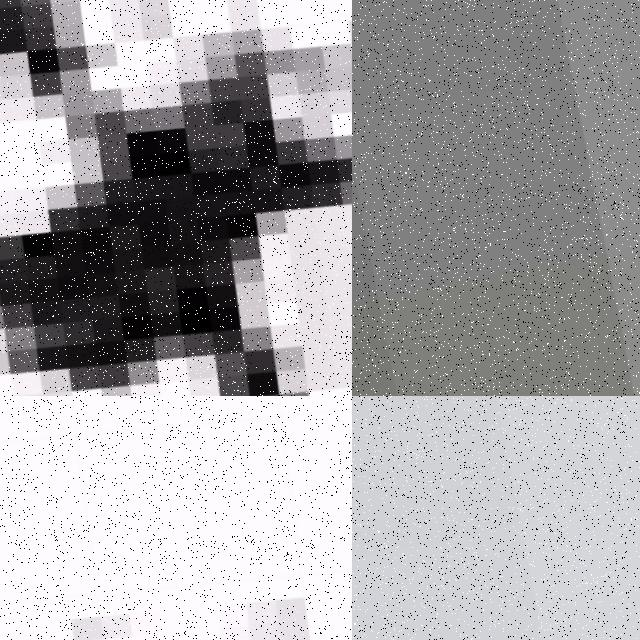drone: (0, 0, 352, 396), (0, 396, 352, 640)
